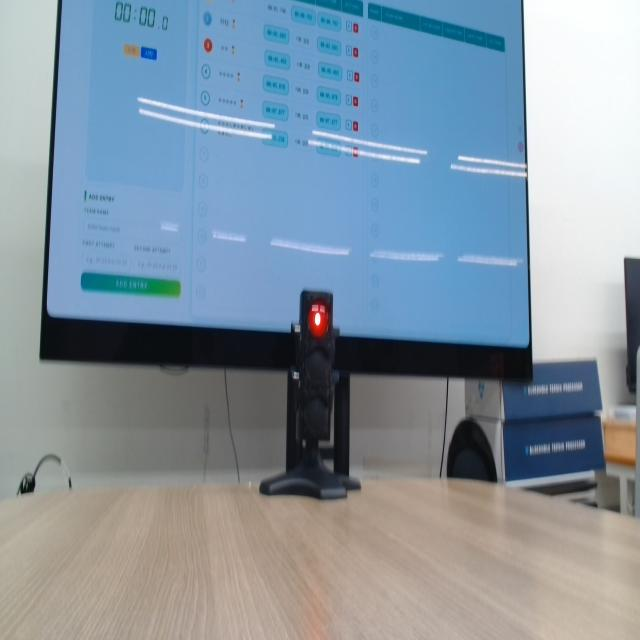red_light: (309, 300, 329, 338)
